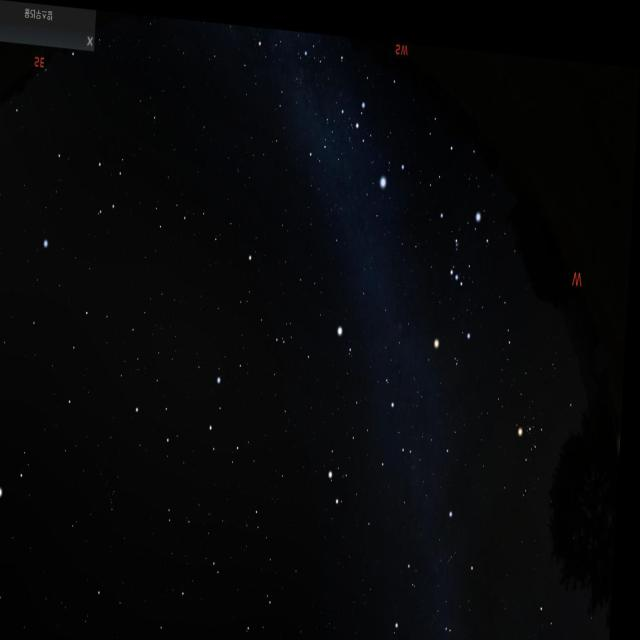canis_major: (349, 87, 422, 195)
canis_minor: (337, 302, 368, 350)
gemini: (325, 374, 423, 524)
leo: (132, 346, 265, 474)
orion: (426, 191, 489, 341)
taurus: (515, 386, 594, 528)
